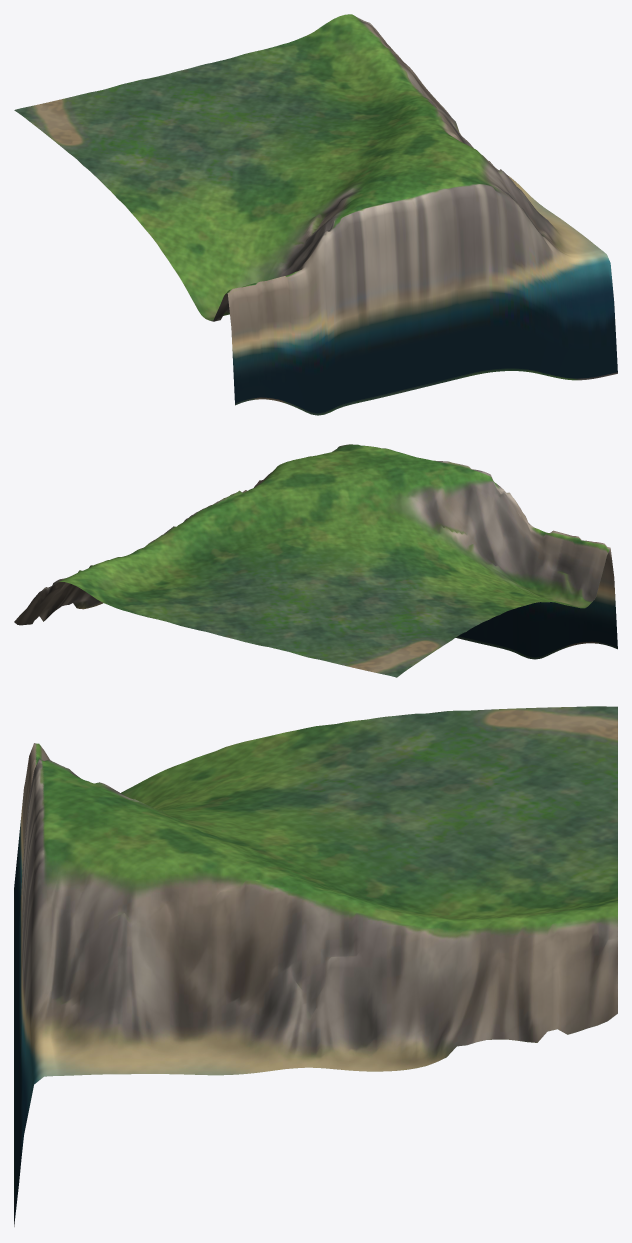
The picture shows the model from 3 angles, top to bottom: view 1: azimuth 30°, elevation 25°; view 2: azimuth 150°, elevation 25°; view 3: azimuth 270°, elevation 25°; orthographic projection. The views are drawn at different scales.
Parts seen in each view (by area): view 1: t128_000; view 2: t128_000; view 3: t128_000.
Boxes of the visible parts, x1,y1,x2,y2 form: t128_000: (14, 14, 617, 415); t128_000: (14, 444, 617, 677); t128_000: (14, 706, 617, 1226).
Bounding box in the file's own units: 64 × 35.04 × 64.
Materials: 1 (1 with a texture image).
